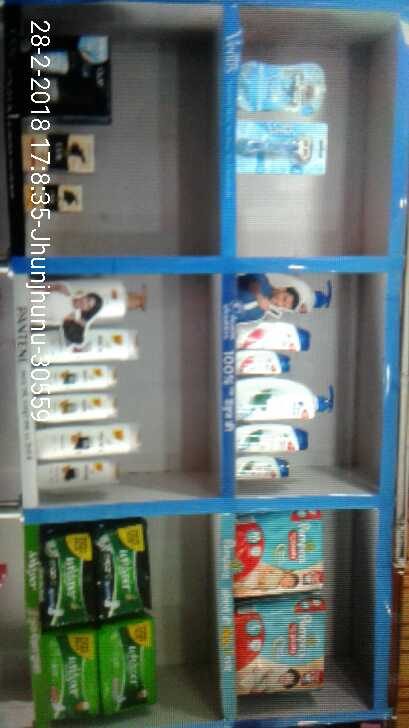venus: (239, 122, 332, 173), (241, 61, 326, 113)
